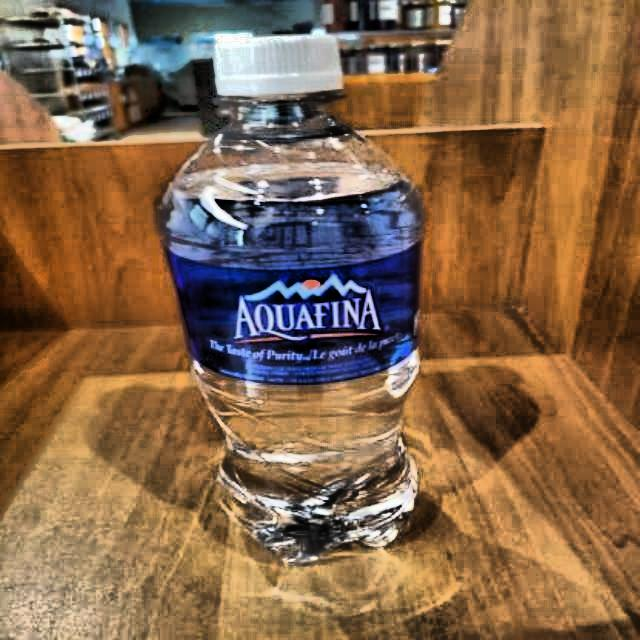Bottles: (152, 18, 433, 569)
